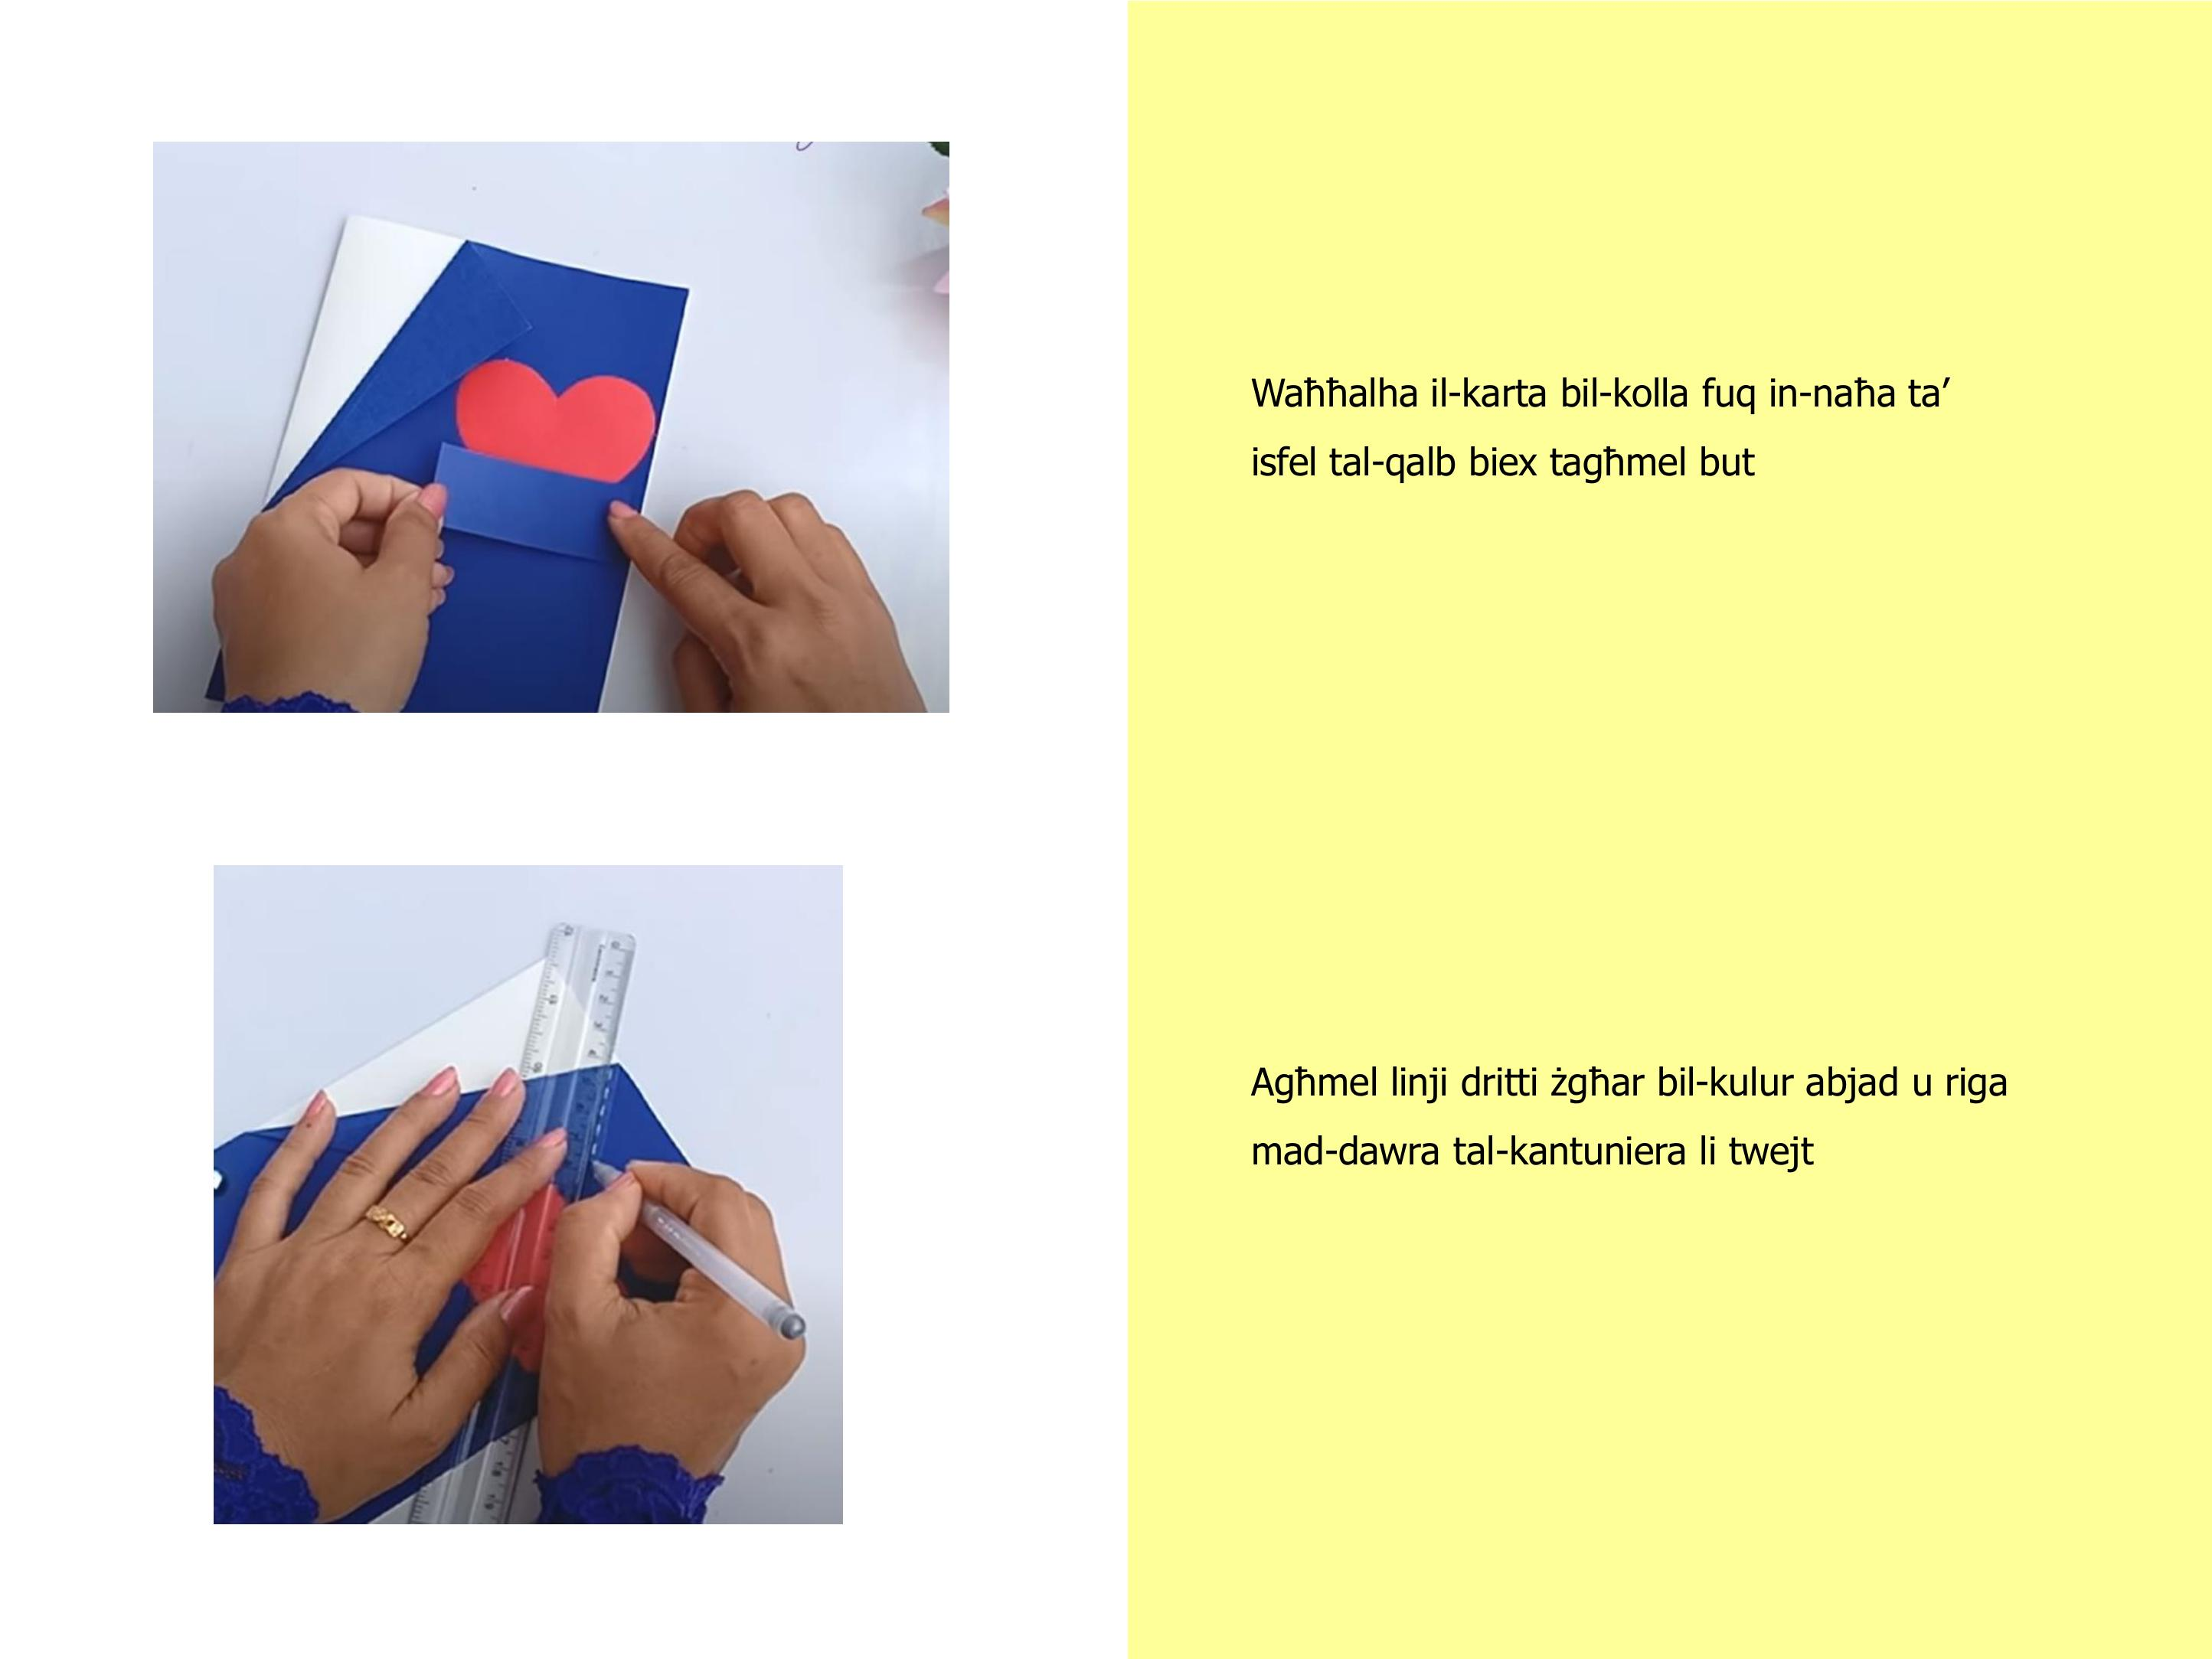text: (1229, 340, 2024, 1202)
